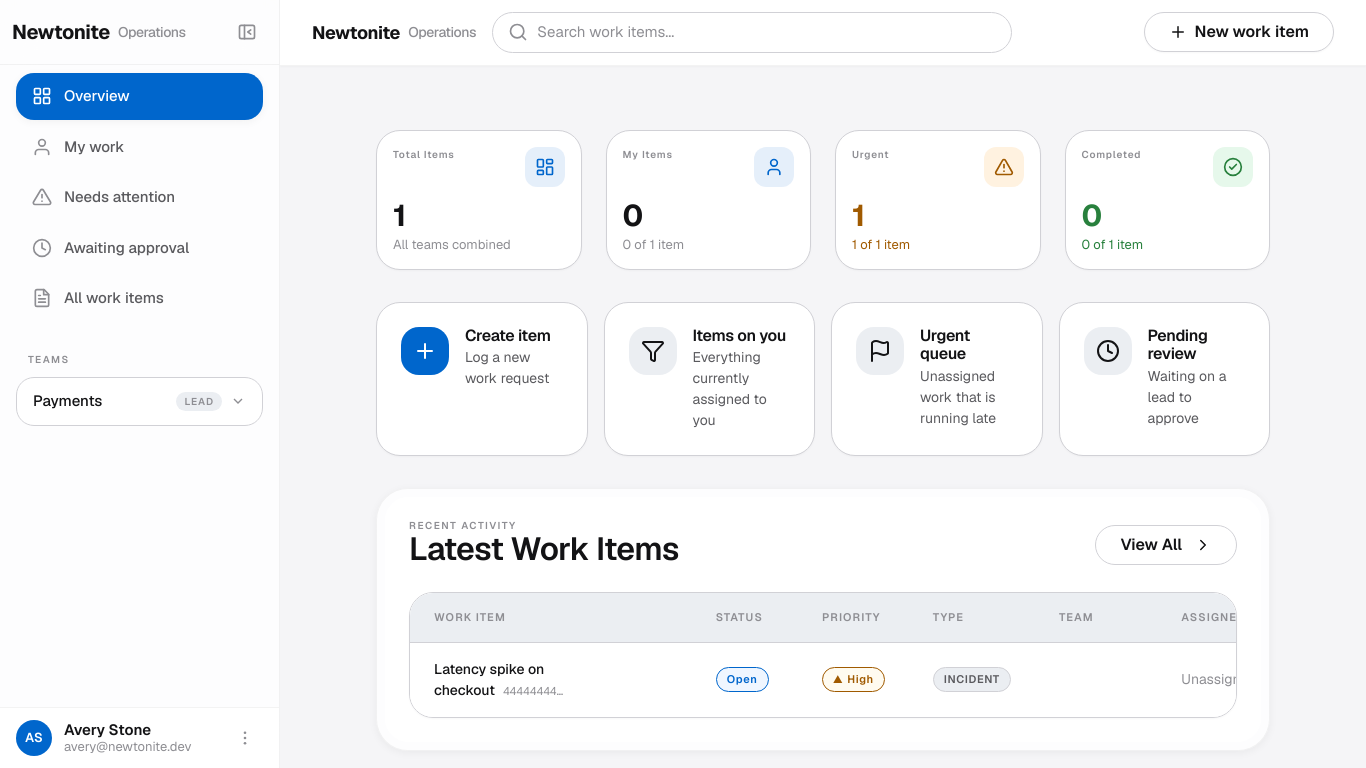
Test: AppShell navigation › keeps account information and team roles out of the header and the popover
expect the text "Overview" is shown: met, box [64,85,130,108]
Click the button named "open account menu" at [245, 738], box [227,720,263,756]
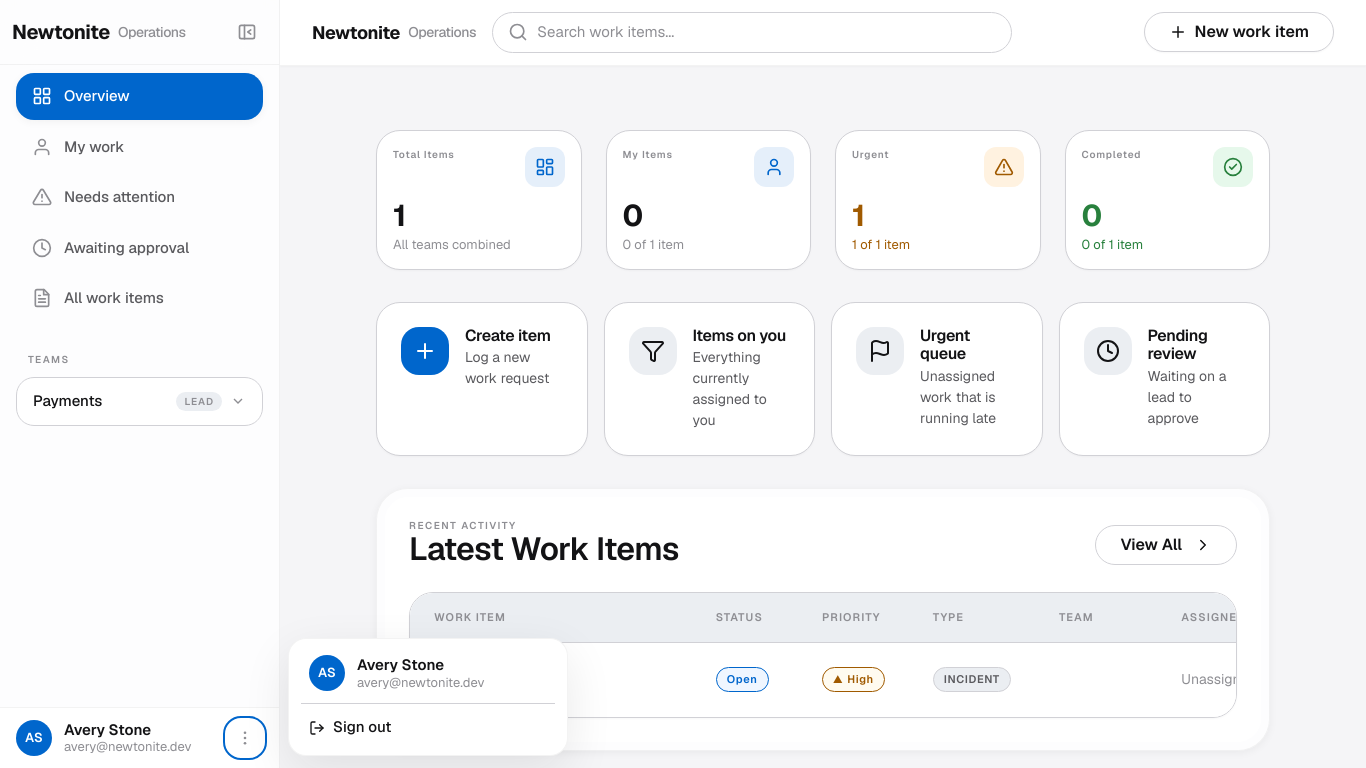
expect the 1st text "Avery Stone" is shown: met, box [357,655,444,674]
expect the 1st text "avery@newtonite.dev" is shown: met, box [357,674,484,690]
expect the menu item "Sign out" is shown: met, box [297,708,559,747]
